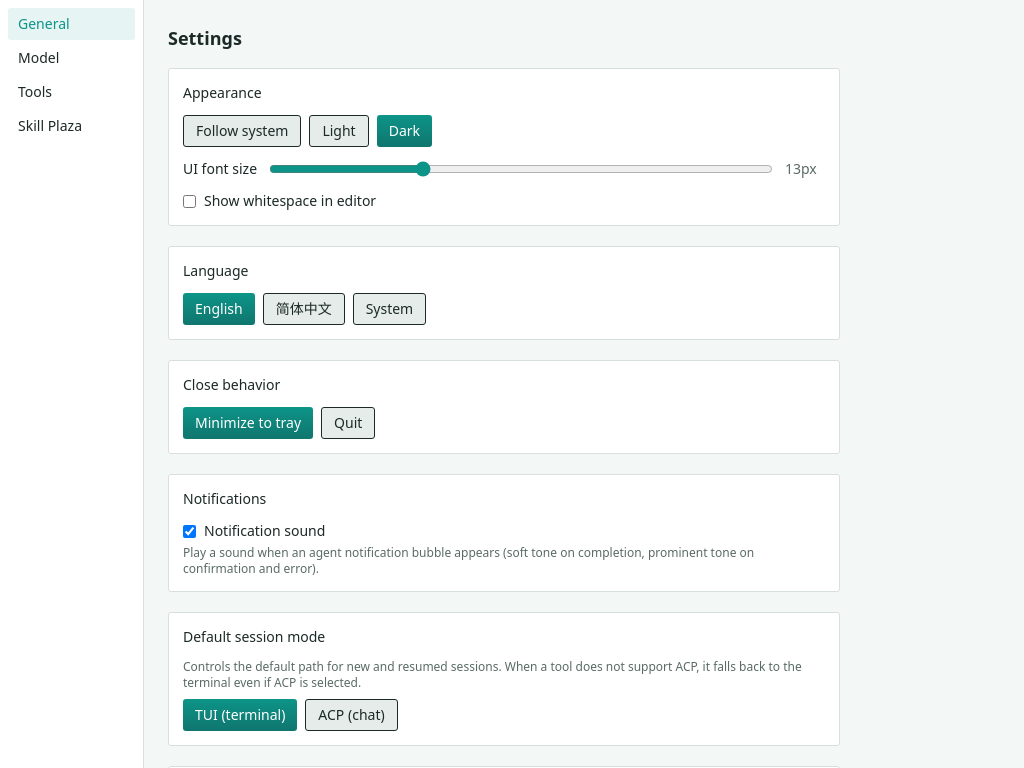
Settings › 残缺安装显示「已损坏」徽标与「修复」按钮
Click the button "Tools": (72, 92) [8,76,135,108]
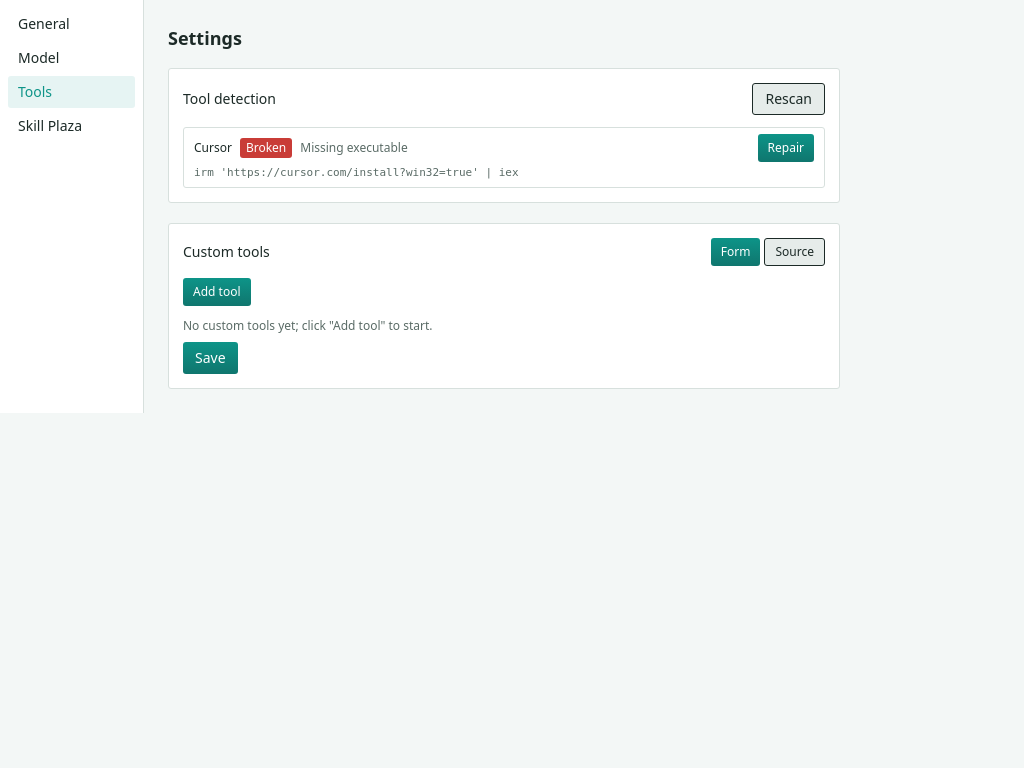
Expected: the list item "Cursor" shows "Broken", [246,139,286,156]
Expected: the list item "Cursor" shows "Missing executable", [300,139,408,156]
Expected: the button "Repair" is shown, [758,134,814,162]
